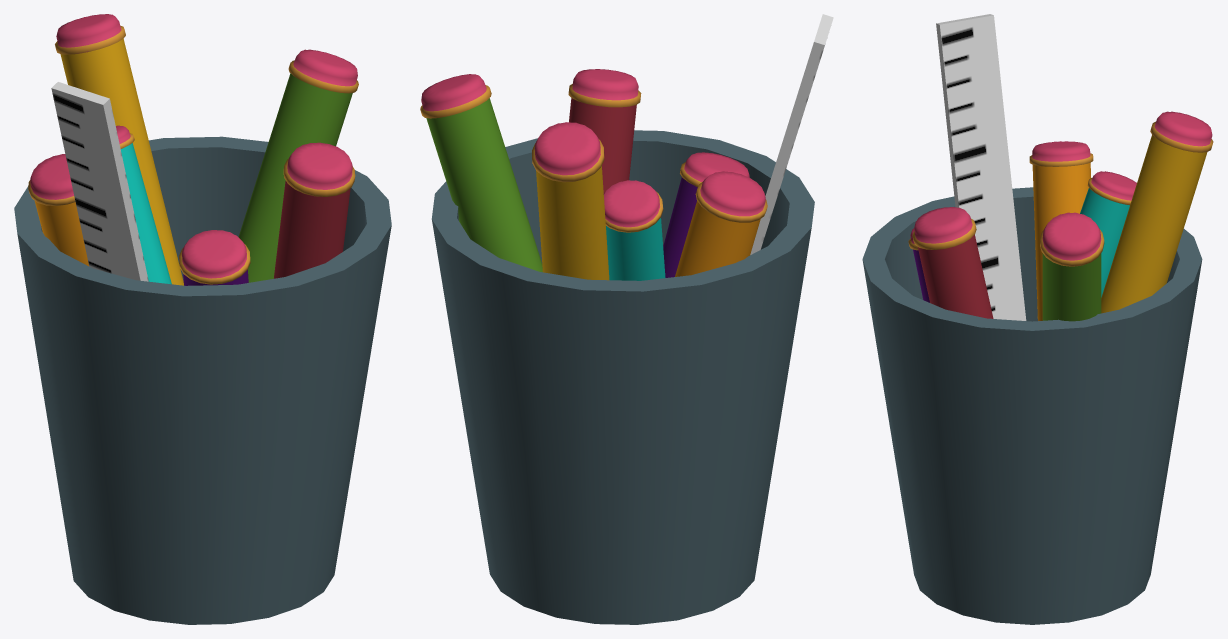
Rendered from Pennen beker model.fbx.
3 renders of one model, left to right at view 1: azimuth 30°, elevation 25°; view 2: azimuth 150°, elevation 25°; view 3: azimuth 270°, elevation 25°, orthographic. The views are drawn at different scales.
Visible parts, largest first — view 1: pCylinder8; view 2: pCylinder8; view 3: pCylinder8.
Boxes of the visible parts, <box> form: pCylinder8: <box>14,14,391,624</box>; pCylinder8: <box>420,14,833,624</box>; pCylinder8: <box>862,14,1213,624</box>.
Size of the model in its own units: 8.84 by 13.2 by 8.62.
1 material, 1 textured.
